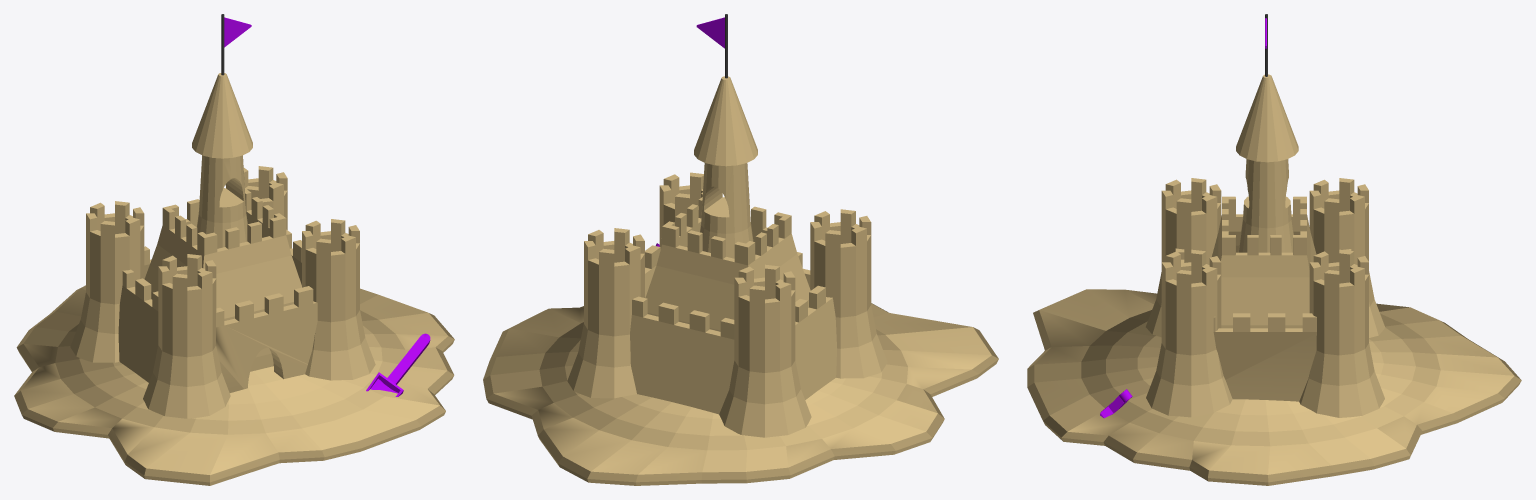
Rendered from sand-castle.glb.
3 views of the same model, side by side, from view 1: azimuth 30°, elevation 25°; view 2: azimuth 150°, elevation 25°; view 3: azimuth 270°, elevation 25° (orthographic). The views are drawn at different scales.
Parts seen in each view (by area): view 1: node-0; view 2: node-0; view 3: node-0.
Part boxes in pixels (x1,y1,x2,y2): node-0: [14, 14, 454, 485]; node-0: [483, 14, 998, 485]; node-0: [1027, 14, 1521, 485].
Size of the model in its own units: 1.87 by 1.58 by 1.9.
